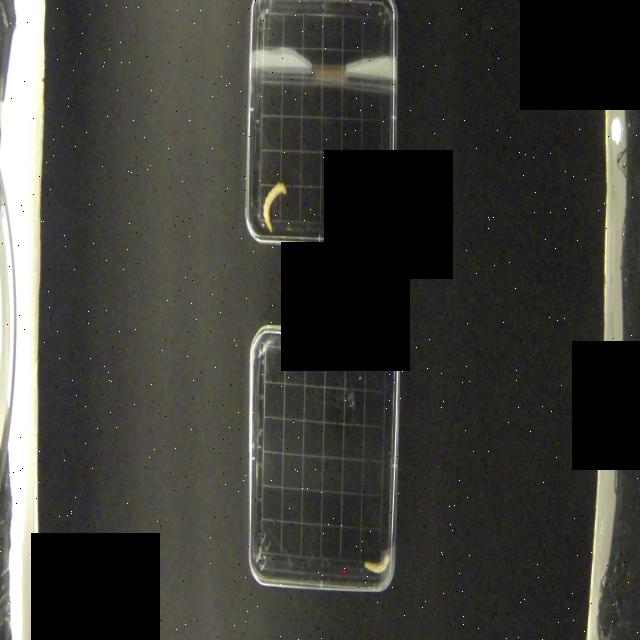larva: (263, 181, 288, 231), (365, 546, 392, 577)
